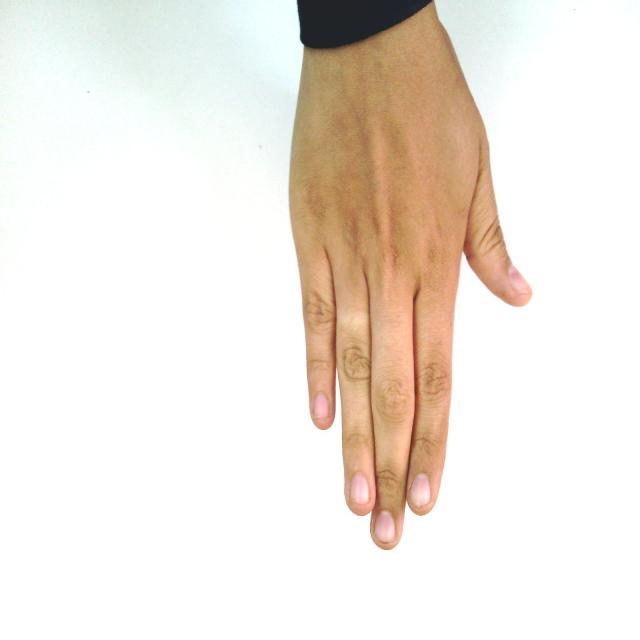Fingernail: (410, 474, 431, 507), (375, 511, 395, 541), (350, 474, 368, 505), (509, 268, 530, 292), (314, 394, 328, 418)
